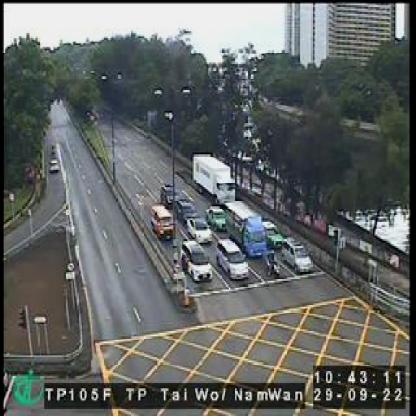Car: (179, 238, 216, 284), (214, 236, 249, 279), (280, 236, 314, 272), (150, 203, 176, 237), (184, 215, 212, 244), (172, 196, 198, 222), (204, 206, 229, 231), (260, 222, 282, 249), (158, 178, 180, 204)
Truck: (224, 199, 262, 253), (191, 151, 231, 201)
